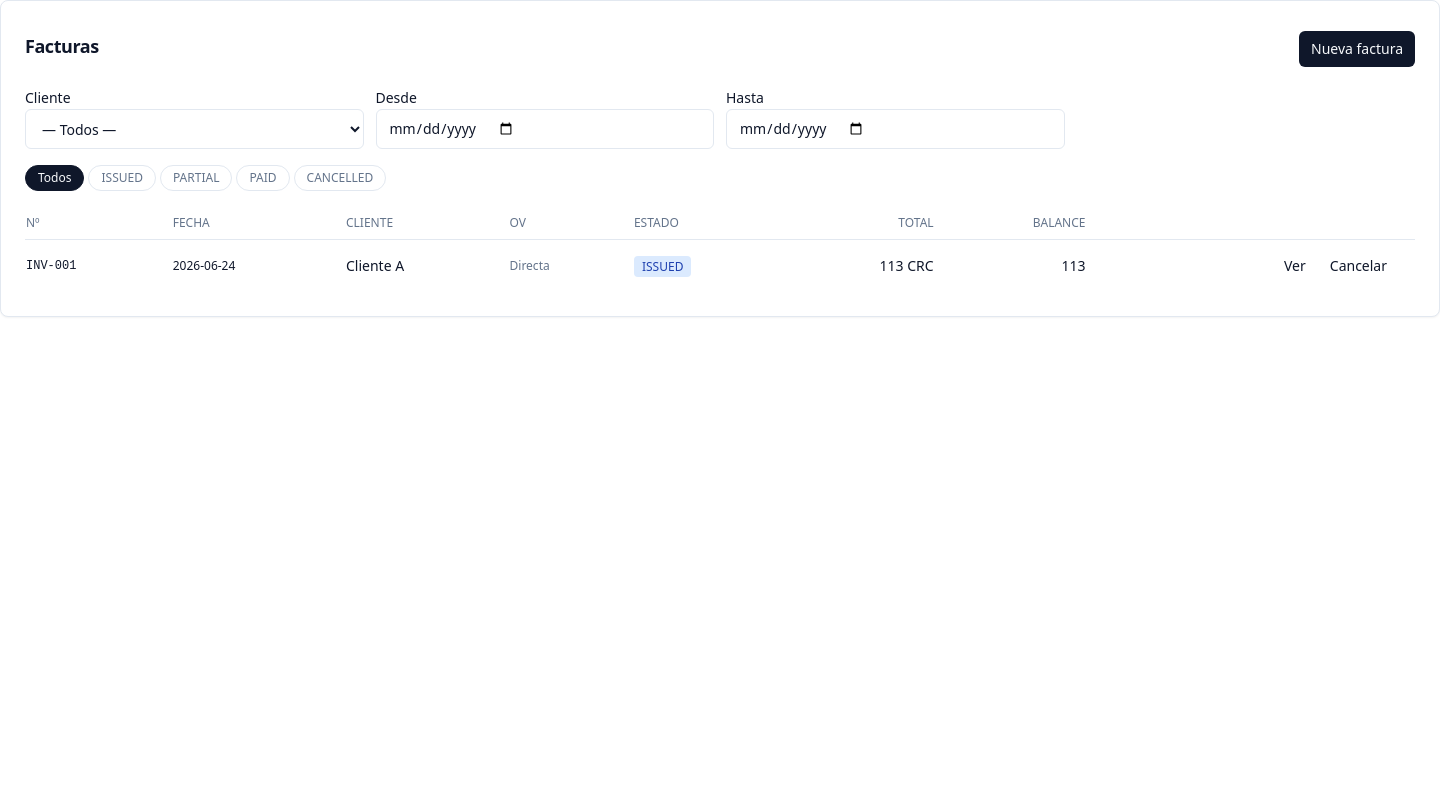
InvoicesPage — selector de nivel de precio por línea (PR-38) › al elegir producto: default Precio 1 y precio autocompleta a 142.86; margen ef. ≈ 30 %
The width and height of the screenshot is (1440, 810).
Click the button "Nueva factura" at [1357, 49], box [1299, 31, 1415, 67]
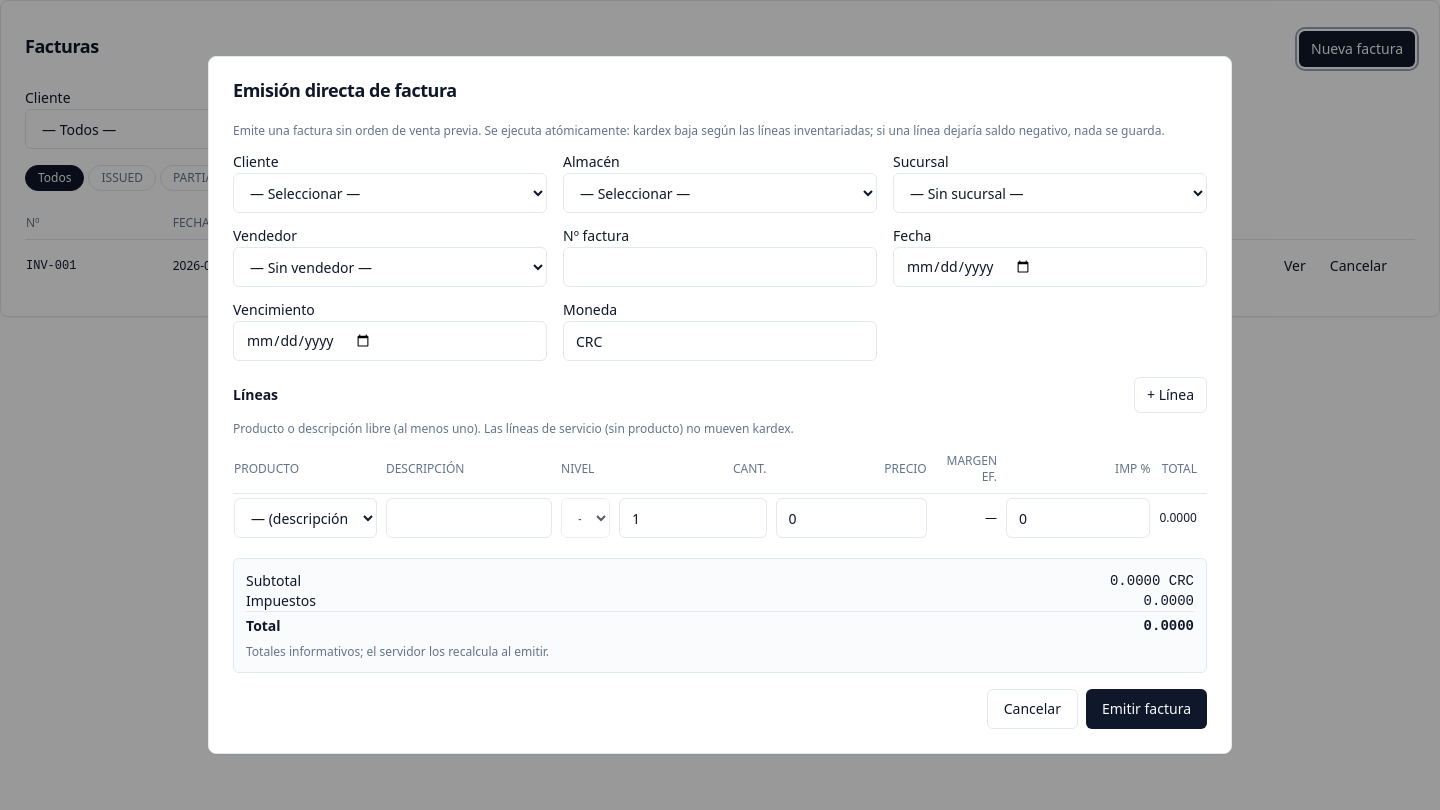
Check: the dropdown named "producto línea 1" is shown, box [234, 498, 377, 538]
Select "Cliente A" in the dropdown with id "i-cust" at [390, 193], box [233, 173, 547, 213]
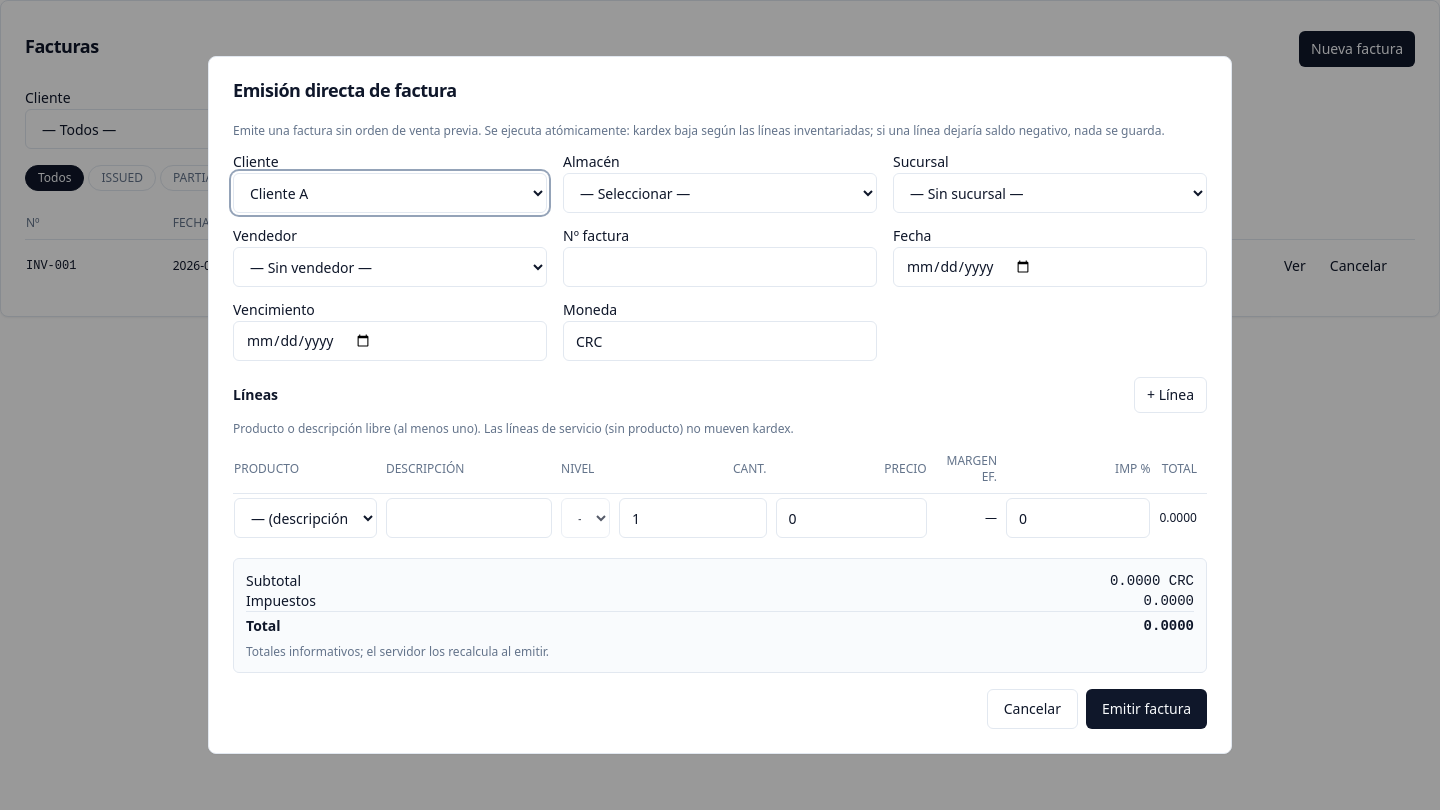
Select "WH-1 — Central" in the dropdown with id "i-wh" at [720, 193], box [563, 173, 877, 213]
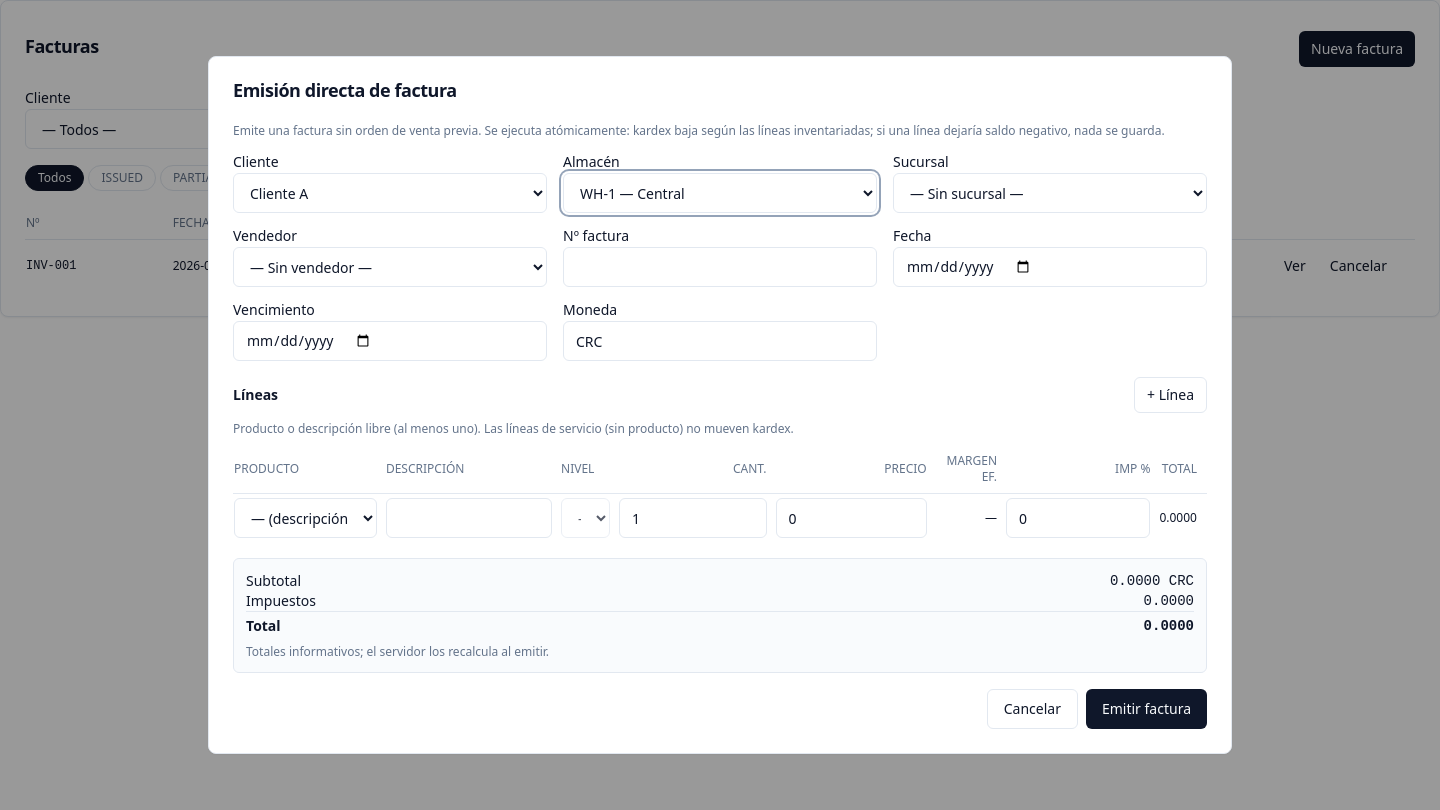
Select "P-1 — Producto 1" in the dropdown named "producto línea 1" at [305, 518], box [234, 498, 377, 538]
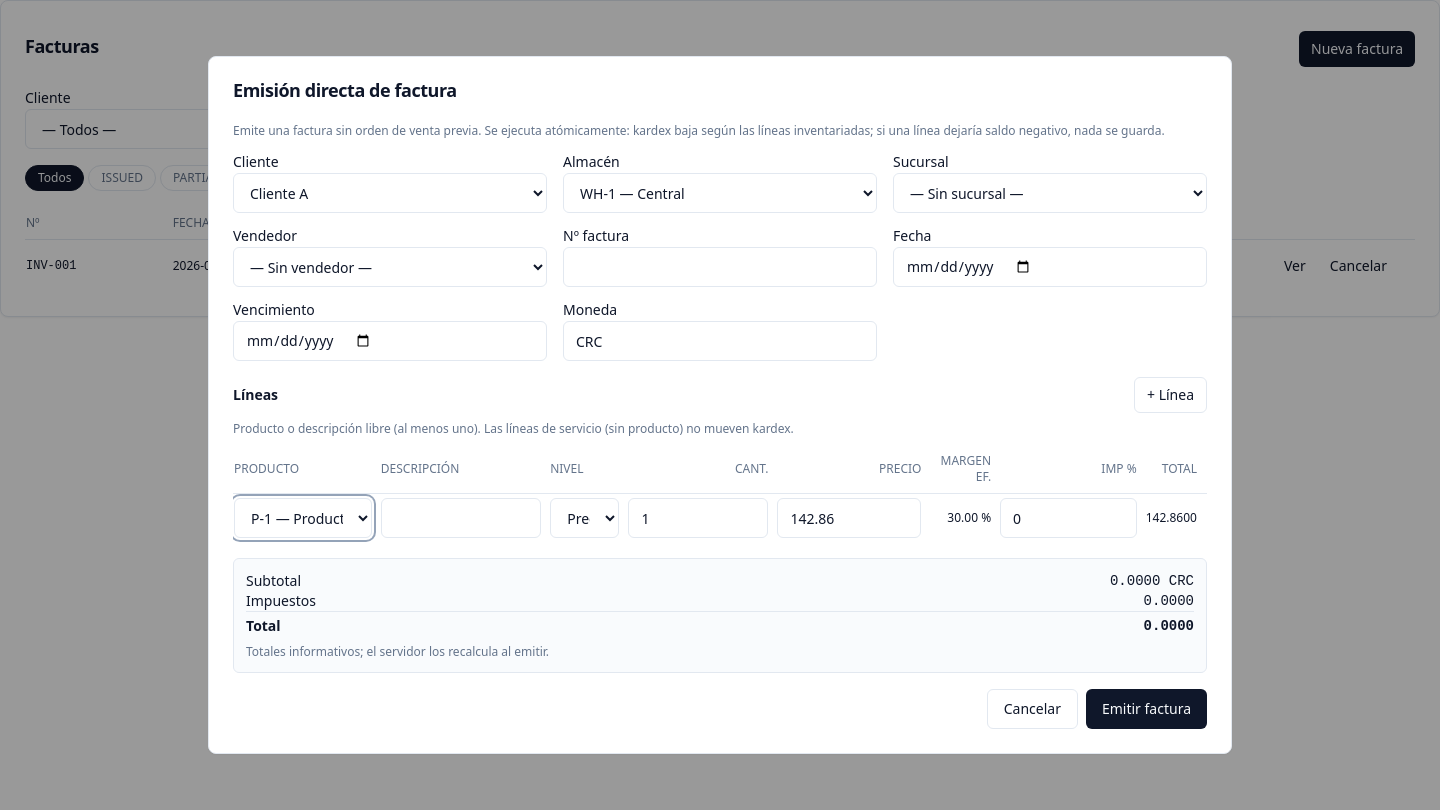
Check: the dropdown with test id "inv-line-level-0" shows "Precio 1", box [550, 498, 620, 538]
Check: the field named "precio línea 1" holds "142.86", box [777, 498, 921, 538]
Check: the cell with test id "inv-line-margin-0" reads "30.00 %", box [947, 509, 991, 526]
